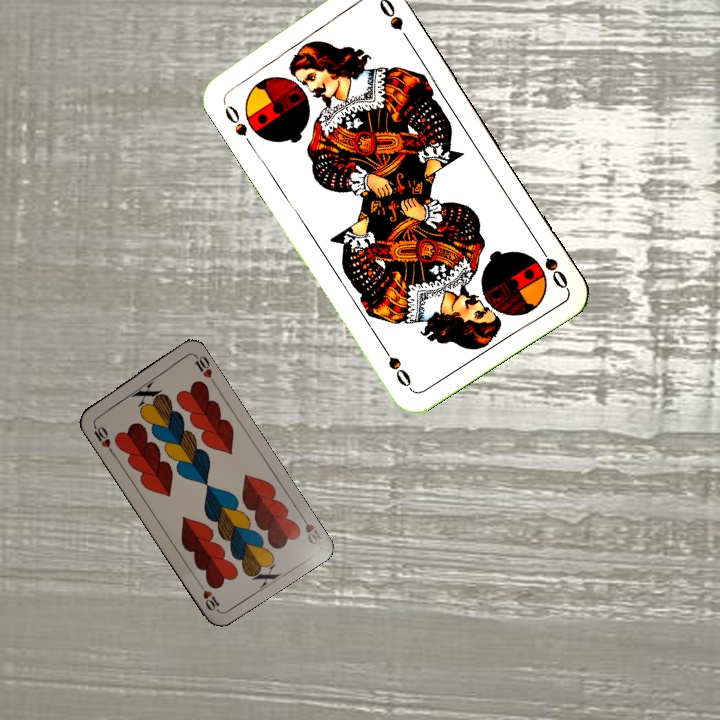H10: (296, 509, 324, 547), (89, 419, 115, 456)
SO: (532, 238, 571, 292), (220, 101, 255, 149)
